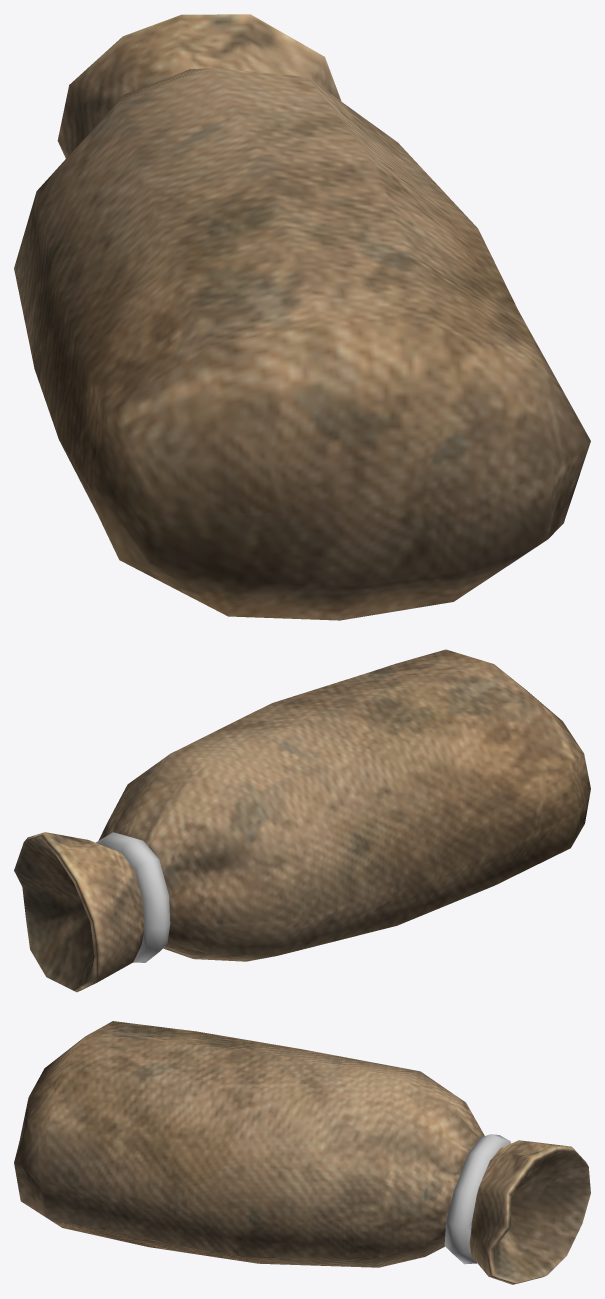
File: village_bag_06.fbx
The picture shows the model from 3 angles, top to bottom: view 1: azimuth 30°, elevation 25°; view 2: azimuth 150°, elevation 25°; view 3: azimuth 270°, elevation 25°; orthographic projection. The views are drawn at different scales.
Parts seen in each view (by area): view 1: village_bag_06; view 2: village_bag_06; view 3: village_bag_06.
Boxes of the visible parts, <box> form: village_bag_06: <box>14,14,590,620</box>; village_bag_06: <box>14,649,590,992</box>; village_bag_06: <box>14,1021,590,1284</box>.
Size of the model in its own units: 37.79 by 20.84 by 58.18.
